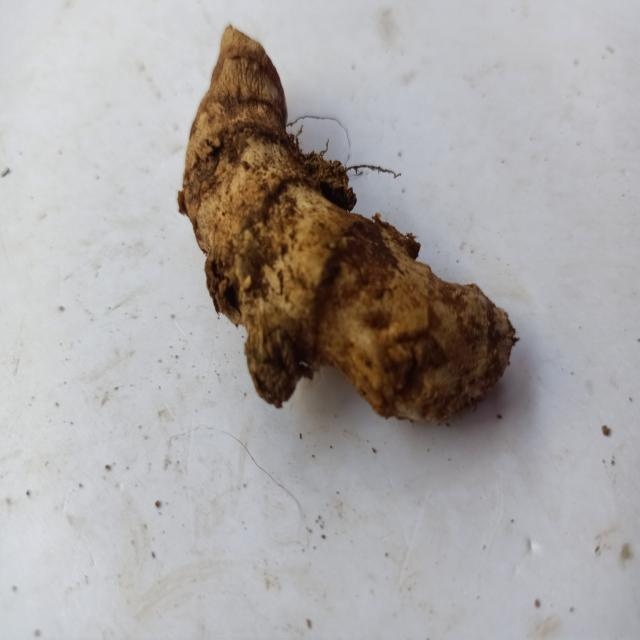Ginger: (177, 25, 517, 421)
